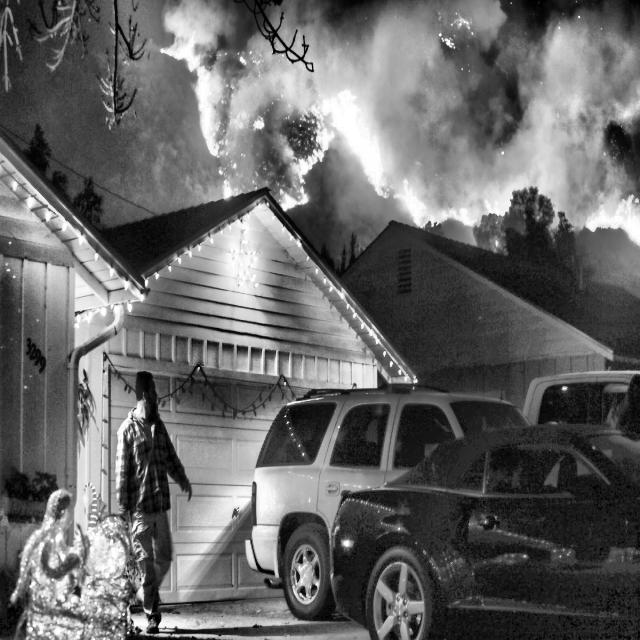fire: (167, 18, 640, 316)
